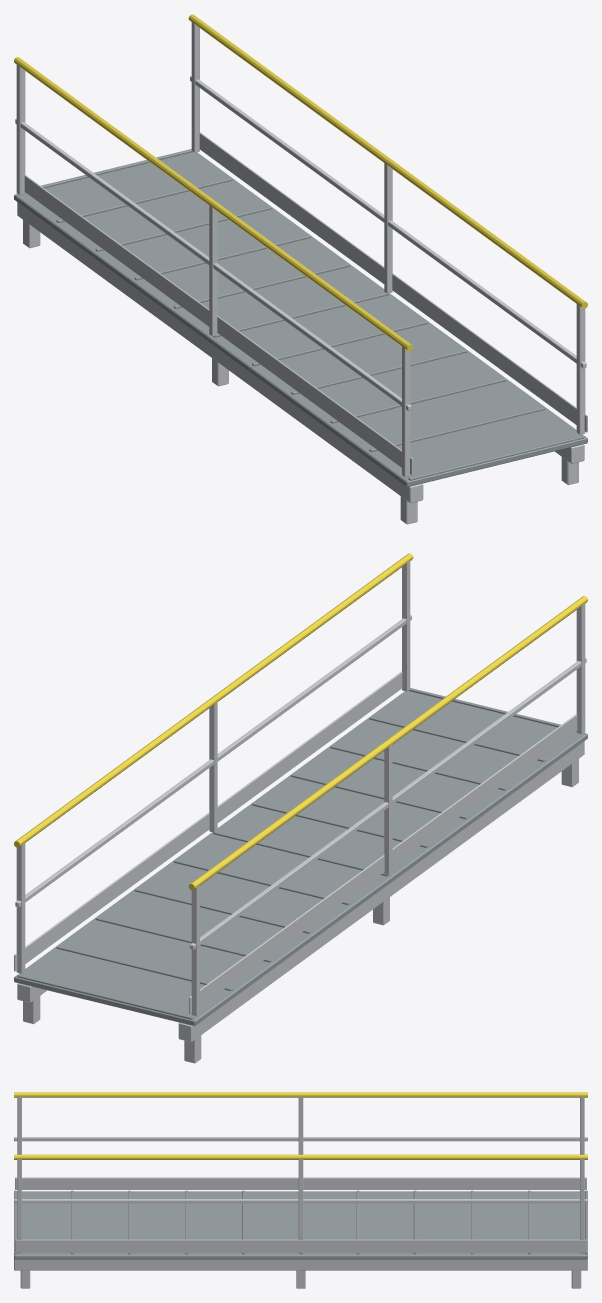
Rendered from offshore-oil-rig-and-platform-deck-walkway-section-a9c4ac09__37009.glb.
3 renders of one model, top to bottom at view 1: azimuth 30°, elevation 25°; view 2: azimuth 150°, elevation 25°; view 3: azimuth 270°, elevation 25°, orthographic. The views are drawn at different scales.
Visible parts, largest first — view 1: deck-walkway-section; view 2: deck-walkway-section; view 3: deck-walkway-section.
Boxes of the visible parts, x1,y1,x2,y2 form: deck-walkway-section: (14,14,587,524); deck-walkway-section: (14,553,587,1063); deck-walkway-section: (14,1092,587,1288).
Size of the model in its own units: 1.6 by 1.55 by 6.
